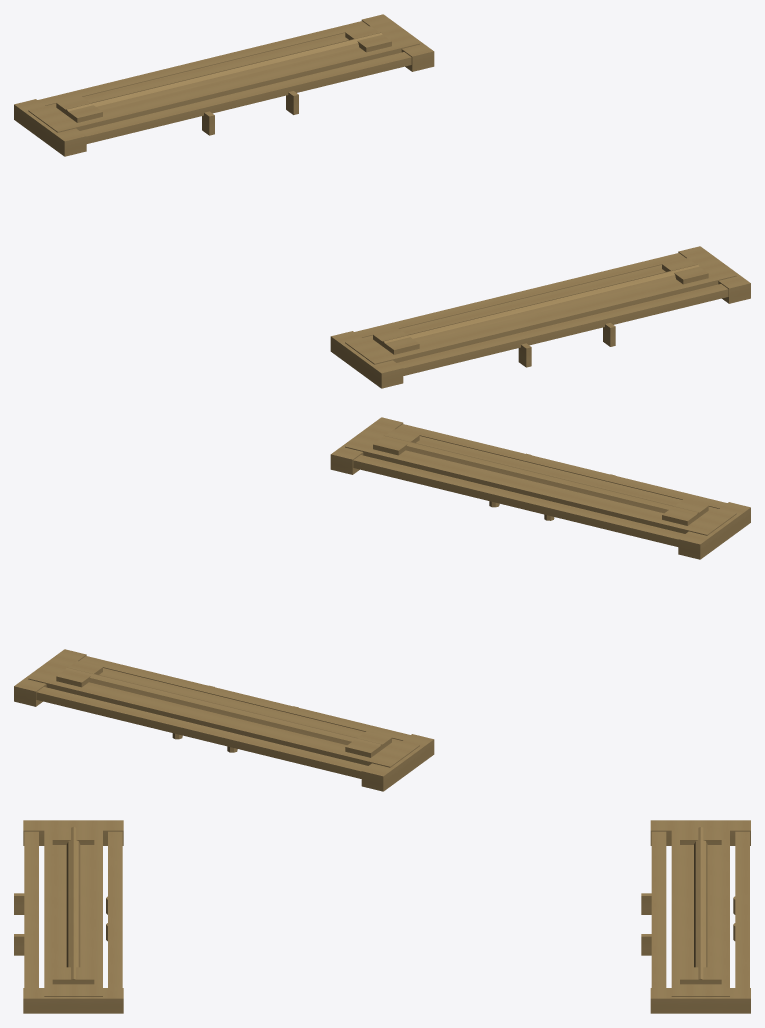
File: AST-TRM-G4-028_steering_bogie_hardware_r002.glb
3 renders of one model, top to bottom at view 1: azimuth 30°, elevation 25°; view 2: azimuth 150°, elevation 25°; view 3: azimuth 270°, elevation 25°, orthographic.
Visible parts, largest first — view 1: Bolster_Fixed_FloorLap_-1.5, Bolster_Fixed_FloorLap_1.5, Bolster_Fixed_SlideGuide_(1.5, 0.2), Bolster_Fixed_SlideGuide_(-1.5, 0.2), Bogie_Original_Axle_1.5, Bogie_Original_Axle_-1.5, Bolster_Fixed_SlideGuide_(-1.5, -0.2), Bolster_Fixed_SlideGuide_(1.5, -0.2), Bolster_Fixed_EndShoe_(1.5, -0.95), Bolster_Fixed_EndShoe_(-1.5, -0.95), Bolster_Fixed_EndShoe_(-1.5, 0.95), Bolster_Fixed_EndShoe_(1.5, 0.95) (+4 smaller); view 2: Bolster_Fixed_FloorLap_1.5, Bolster_Fixed_FloorLap_-1.5, Bolster_Fixed_SlideGuide_(1.5, -0.2), Bolster_Fixed_SlideGuide_(-1.5, -0.2), Bogie_Original_Axle_-1.5, Bogie_Original_Axle_1.5, Bolster_Fixed_SlideGuide_(1.5, 0.2), Bolster_Fixed_SlideGuide_(-1.5, 0.2), Bolster_Fixed_EndShoe_(-1.5, -0.95), Bolster_Fixed_EndShoe_(1.5, -0.95), Bolster_Fixed_EndShoe_(1.5, 0.95), Bolster_Fixed_EndShoe_(-1.5, 0.95) (+4 smaller); view 3: Bolster_Fixed_FloorLap_1.5, Bolster_Fixed_FloorLap_-1.5, Bolster_Fixed_SlideGuide_(-1.5, 0.2), Bolster_Fixed_SlideGuide_(-1.5, -0.2), Bolster_Fixed_SlideGuide_(1.5, -0.2), Bolster_Fixed_SlideGuide_(1.5, 0.2), Bolster_Fixed_EndShoe_(1.5, 0.95), Bolster_Fixed_EndShoe_(-1.5, 0.95), Bogie_Original_Axle_1.5, Bogie_Original_Axle_-1.5, Bolster_Fixed_EndShoe_(-1.5, -0.95), Bolster_Fixed_EndShoe_(1.5, -0.95) (+4 smaller).
Part boxes in pixels (box(x1,y1,x2,y2)): Bolster_Fixed_FloorLap_-1.5: box(28, 22, 419, 132); Bolster_Fixed_FloorLap_1.5: box(345, 254, 736, 364); Bolster_Fixed_SlideGuide_(1.5, 0.2): box(373, 284, 728, 381); Bolster_Fixed_SlideGuide_(-1.5, 0.2): box(61, 52, 411, 148); Bogie_Original_Axle_1.5: box(380, 264, 699, 346); Bogie_Original_Axle_-1.5: box(63, 32, 382, 117); Bolster_Fixed_SlideGuide_(-1.5, -0.2): box(15, 21, 368, 117); Bolster_Fixed_SlideGuide_(1.5, -0.2): box(354, 253, 685, 337); Bolster_Fixed_EndShoe_(1.5, -0.95): box(330, 331, 403, 388); Bolster_Fixed_EndShoe_(-1.5, -0.95): box(14, 99, 86, 156); Bolster_Fixed_EndShoe_(-1.5, 0.95): box(361, 14, 434, 71); Bolster_Fixed_EndShoe_(1.5, 0.95): box(678, 246, 750, 303); Bolster_Fixed_FloorLap_1.5: box(345, 425, 736, 535); Bolster_Fixed_FloorLap_-1.5: box(28, 657, 419, 767); Bolster_Fixed_SlideGuide_(1.5, -0.2): box(353, 455, 708, 552); Bolster_Fixed_SlideGuide_(-1.5, -0.2): box(36, 687, 391, 784); Bogie_Original_Axle_-1.5: box(65, 667, 384, 748); Bogie_Original_Axle_1.5: box(382, 435, 698, 514); Bolster_Fixed_SlideGuide_(1.5, 0.2): box(396, 424, 750, 521); Bolster_Fixed_SlideGuide_(-1.5, 0.2): box(79, 656, 410, 740); Bolster_Fixed_EndShoe_(-1.5, -0.95): box(361, 734, 434, 791); Bolster_Fixed_EndShoe_(1.5, -0.95): box(678, 502, 750, 559); Bolster_Fixed_EndShoe_(1.5, 0.95): box(330, 417, 403, 474); Bolster_Fixed_EndShoe_(-1.5, 0.95): box(14, 649, 86, 706); Bolster_Fixed_FloorLap_1.5: box(44, 821, 102, 996); Bolster_Fixed_FloorLap_-1.5: box(671, 821, 729, 996); Bolster_Fixed_SlideGuide_(-1.5, 0.2): box(651, 831, 666, 1007); Bolster_Fixed_SlideGuide_(-1.5, -0.2): box(735, 831, 749, 1007); Bolster_Fixed_SlideGuide_(1.5, -0.2): box(108, 831, 122, 1007); Bolster_Fixed_SlideGuide_(1.5, 0.2): box(24, 831, 38, 1007); Bolster_Fixed_EndShoe_(1.5, 0.95): box(23, 988, 123, 1013); Bolster_Fixed_EndShoe_(-1.5, 0.95): box(650, 988, 750, 1013); Bogie_Original_Axle_1.5: box(66, 827, 80, 983); Bogie_Original_Axle_-1.5: box(694, 827, 707, 983); Bolster_Fixed_EndShoe_(-1.5, -0.95): box(650, 820, 750, 845); Bolster_Fixed_EndShoe_(1.5, -0.95): box(23, 820, 123, 845).
Size of the model in its own units: 2.02 by 0.165 by 3.52.
1 material, 1 textured.
